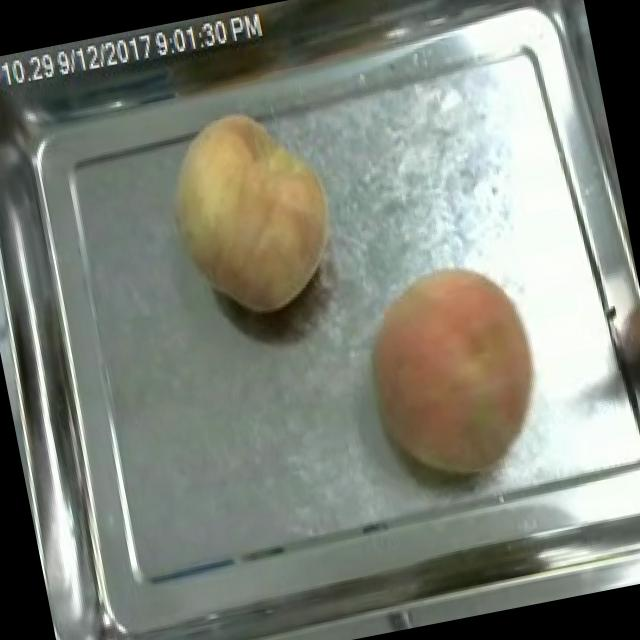Fruit: (342, 242, 568, 497), (151, 90, 359, 333)
